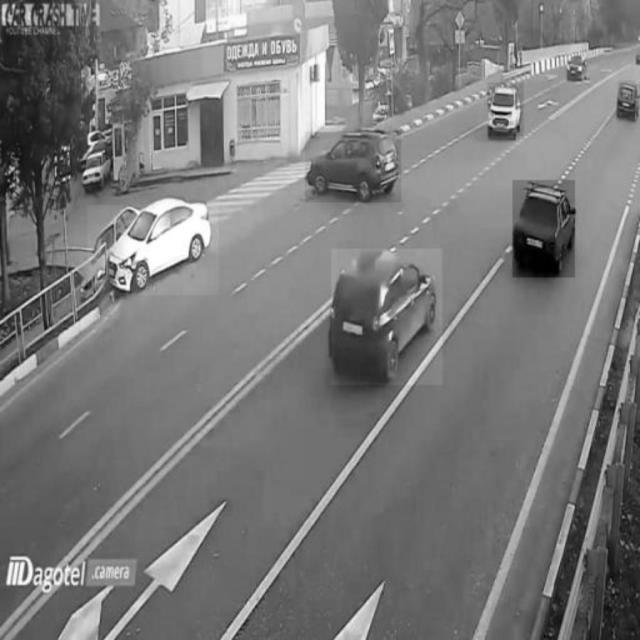accident: (88, 206, 219, 296)
vehicle: (332, 249, 443, 385), (306, 132, 402, 203), (513, 180, 575, 278), (488, 83, 524, 137), (618, 81, 635, 118)
